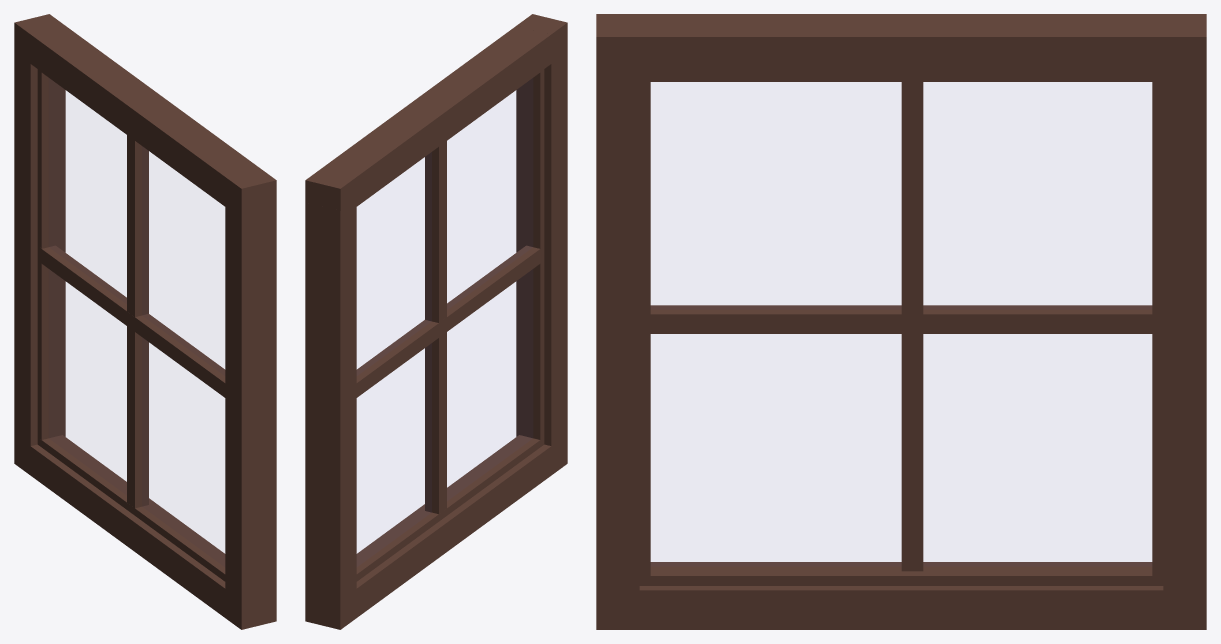
Rendered from Window.glb.
3 views of the same model, side by side, from view 1: azimuth 30°, elevation 25°; view 2: azimuth 150°, elevation 25°; view 3: azimuth 270°, elevation 25° (orthographic). The views are drawn at different scales.
Visible parts, largest first — view 1: node_MeshObject53453696-PolyPaper20; view 2: node_MeshObject53453696-PolyPaper20; view 3: node_MeshObject53453696-PolyPaper20.
Part boxes in pixels (x1,y1,x2,y2): node_MeshObject53453696-PolyPaper20: (14,14,276,629); node_MeshObject53453696-PolyPaper20: (305,14,567,629); node_MeshObject53453696-PolyPaper20: (596,14,1206,629).
Bounding box in the file's own units: 0.05 × 0.6 × 0.56.
